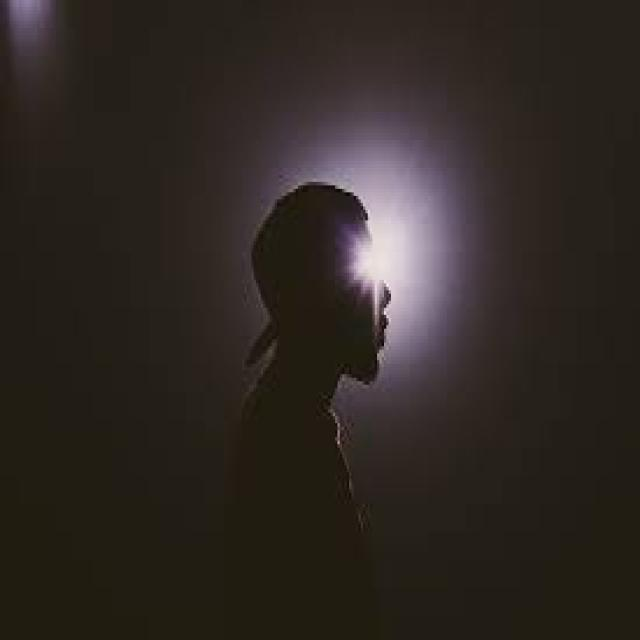cap: (237, 178, 396, 385)
